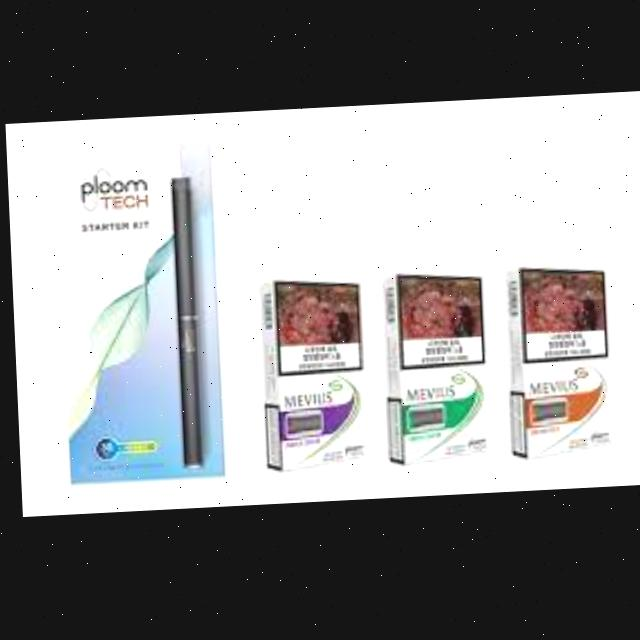vape: (168, 177, 201, 471)
